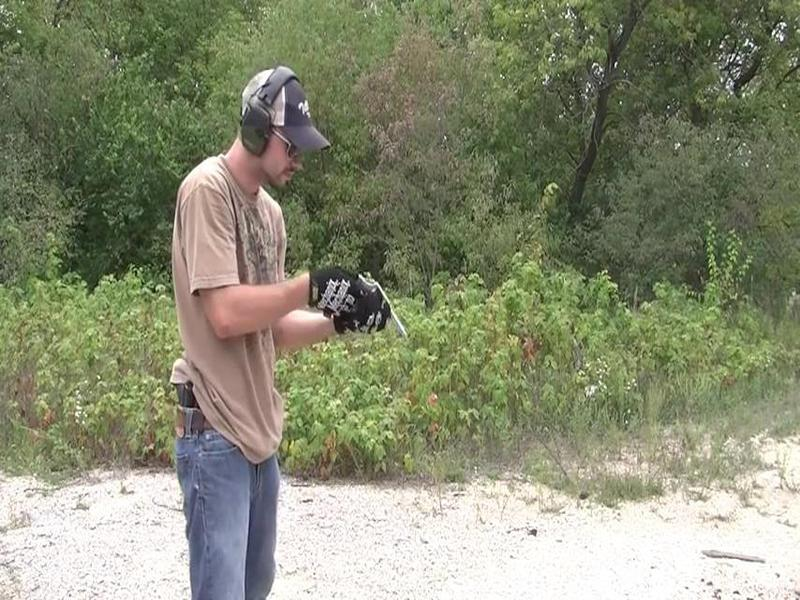Revolver: (356, 261, 420, 353)
